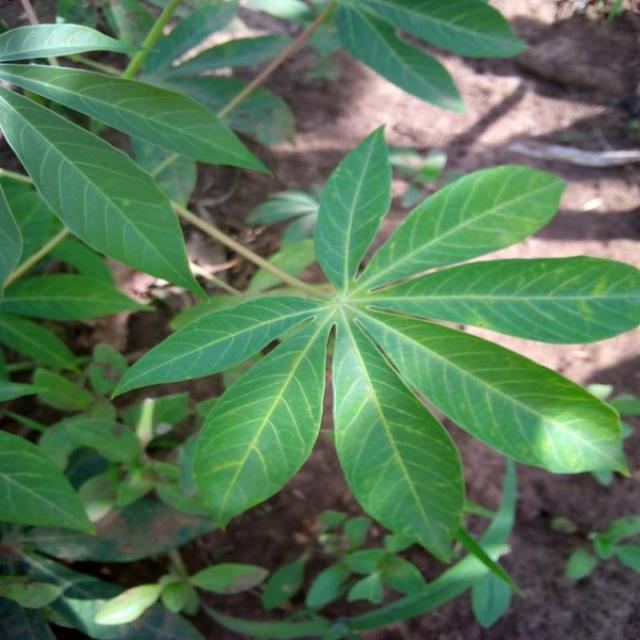cassava leaf: (110, 122, 640, 563), (1, 81, 210, 300), (332, 310, 466, 564), (191, 309, 333, 530), (314, 122, 394, 293)
